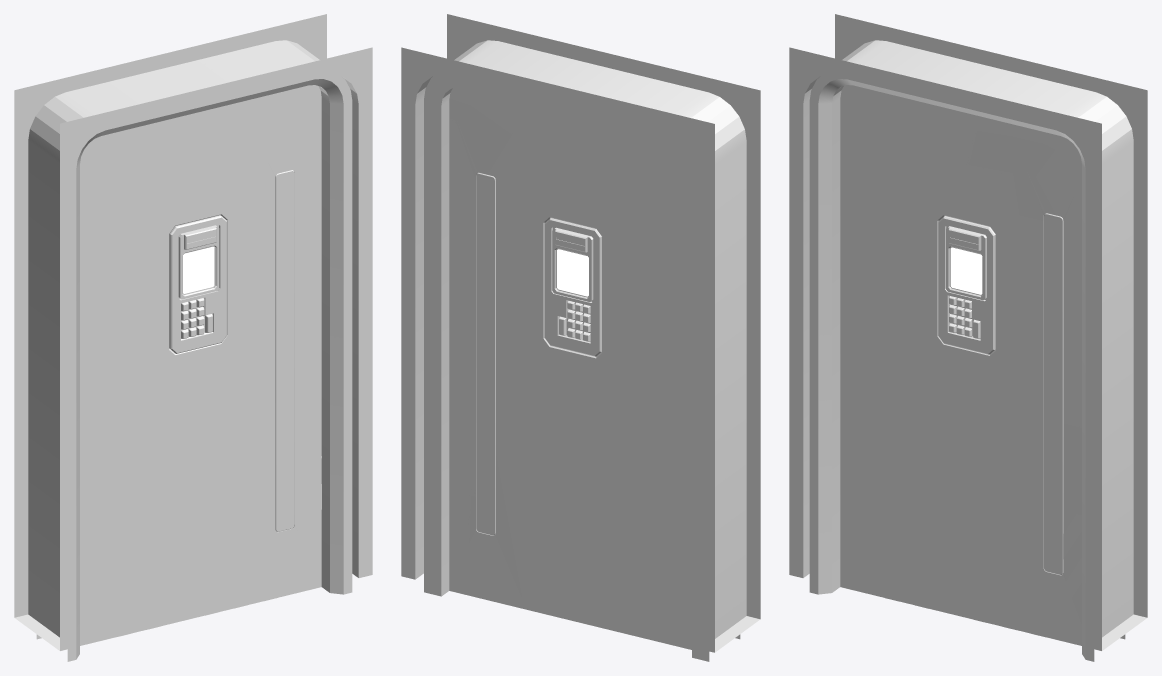
Rendered from KB3D_FTW_PropSingleDoor_A_grp.glb.
3 views of the same model, side by side, from view 1: azimuth 30°, elevation 25°; view 2: azimuth 150°, elevation 25°; view 3: azimuth 330°, elevation 25° (orthographic).
Visible parts, largest first — view 1: KB3D_FTW_PropSingleDoor_A_Door, KB3D_FTW_PropSingleDoor_A_Frame; view 2: KB3D_FTW_PropSingleDoor_A_Door, KB3D_FTW_PropSingleDoor_A_Frame; view 3: KB3D_FTW_PropSingleDoor_A_Door, KB3D_FTW_PropSingleDoor_A_Frame.
Boxes of the visible parts, left/top/right/bottom form: KB3D_FTW_PropSingleDoor_A_Door: left=80, top=85, right=321, bottom=645; KB3D_FTW_PropSingleDoor_A_Frame: left=14, top=14, right=372, bottom=661; KB3D_FTW_PropSingleDoor_A_Door: left=449, top=87, right=691, bottom=649; KB3D_FTW_PropSingleDoor_A_Frame: left=401, top=14, right=760, bottom=661; KB3D_FTW_PropSingleDoor_A_Door: left=840, top=85, right=1081, bottom=645; KB3D_FTW_PropSingleDoor_A_Frame: left=789, top=14, right=1147, bottom=661.
Size of the model in its own units: 1.46 by 2.44 by 0.3696.
Materials: 8 (2 with a texture image).
